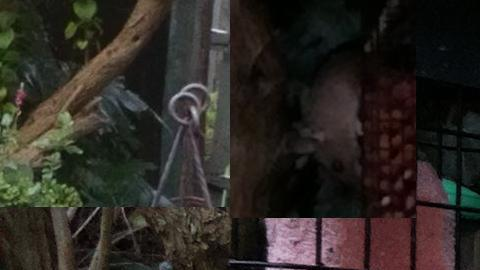mouse: (295, 50, 366, 187)
